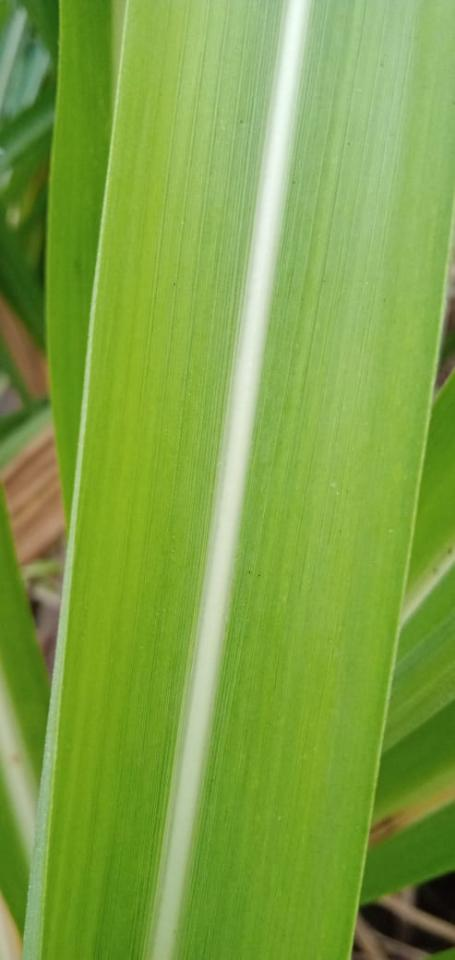Healthy: (21, 0, 454, 959), (359, 365, 454, 907), (0, 480, 52, 940)
